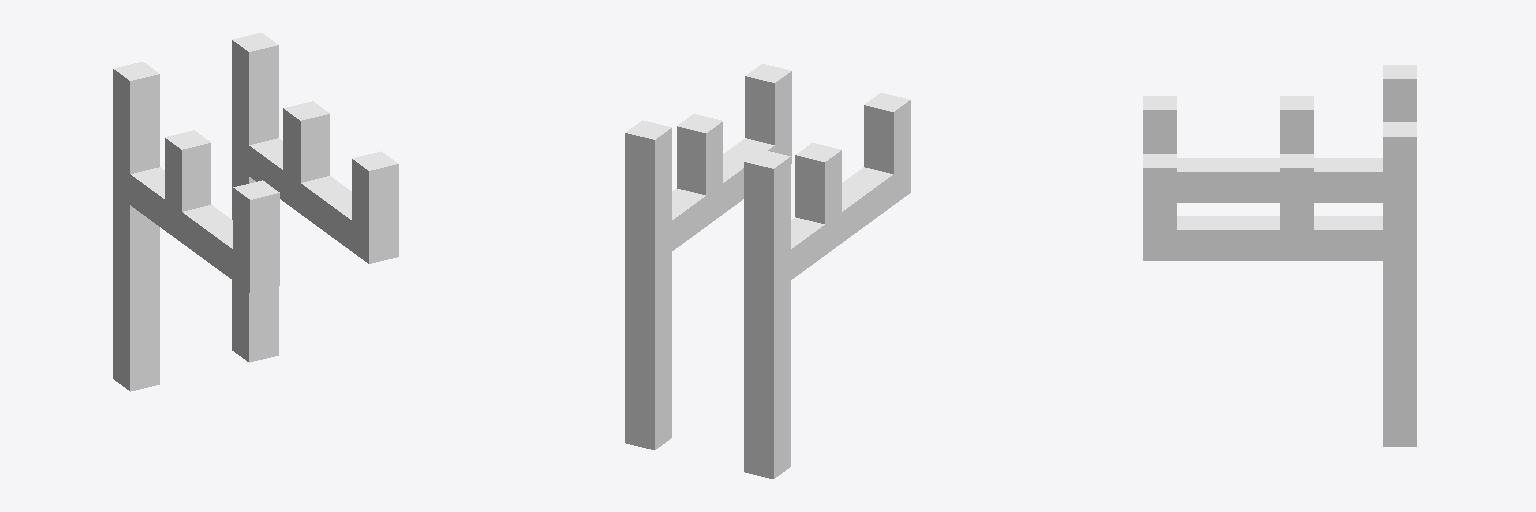
File: Support1.obj
3 views of the same model, side by side, from view 1: azimuth 30°, elevation 25°; view 2: azimuth 150°, elevation 25°; view 3: azimuth 270°, elevation 25° (orthographic).
Size of the model in its own units: 5 by 10 by 8.